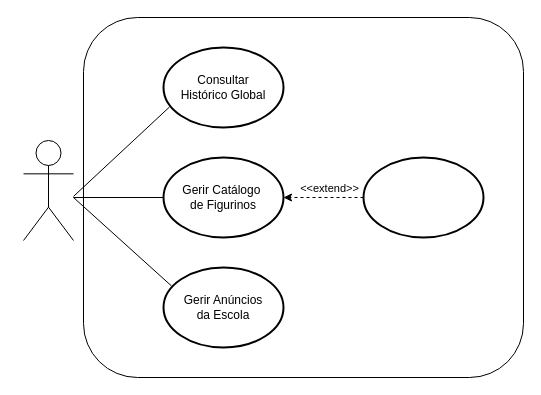
Image size: 541x395. Some labels were removed from this diagram. The box of each missing label's shape, as (x1, y1, x2, y2) in pixels:
Funcionário: (22, 140, 74, 240)
Gerir Acessórios: (362, 156, 484, 238)
